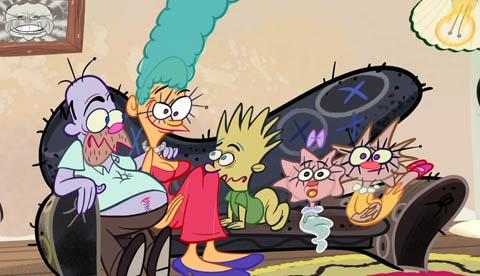person: (136, 33, 244, 271), (54, 75, 169, 268), (214, 112, 292, 243), (348, 135, 429, 238), (293, 150, 343, 252)
